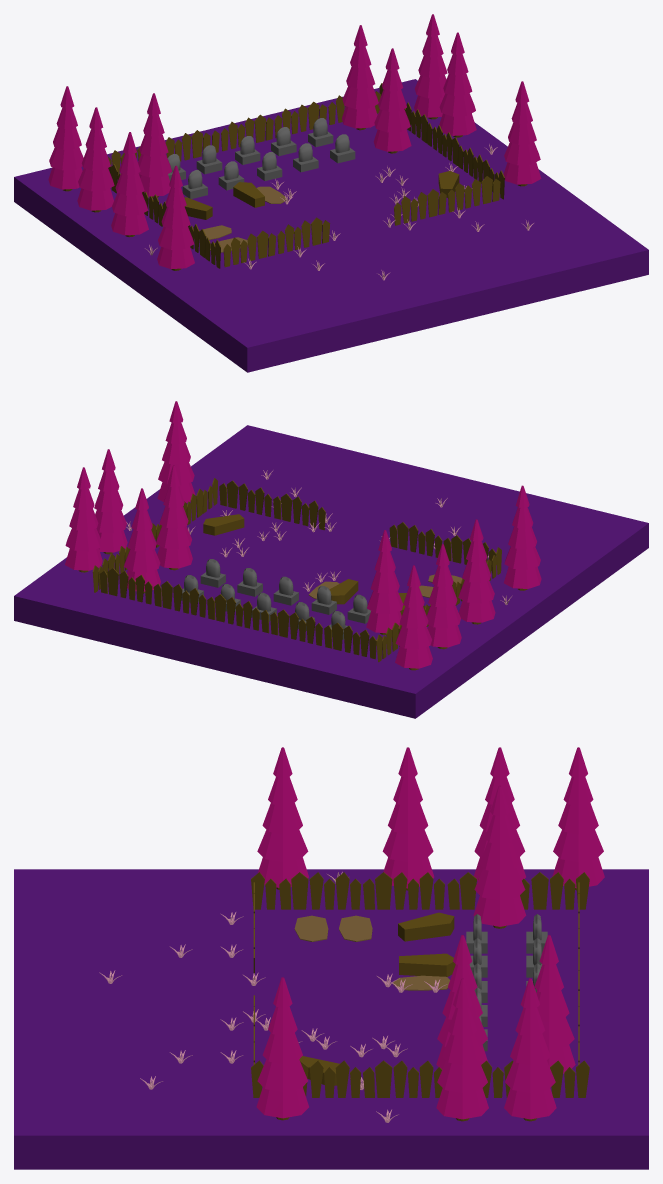
File: cemetery.fbx
The picture shows the model from 3 angles, top to bottom: view 1: azimuth 30°, elevation 25°; view 2: azimuth 150°, elevation 25°; view 3: azimuth 270°, elevation 25°; orthographic projection. The views are drawn at different scales.
Visible parts, largest first — view 1: Box116; view 2: Box116; view 3: Box116, Box111.
Part boxes in pixels (x1,y1,x2,y2): Box116: (14,14,648,372); Box116: (14,401,648,718); Box116: (14,747,648,1169); Box111: (393,975,449,990).
Size of the model in its own units: 13814 by 4193 by 13912.
